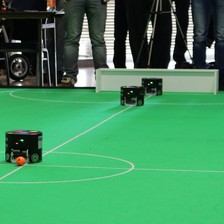ball: (14, 154, 26, 167)
goal: (91, 65, 221, 96)
robot: (3, 127, 44, 165), (118, 82, 147, 107), (142, 73, 164, 94)
